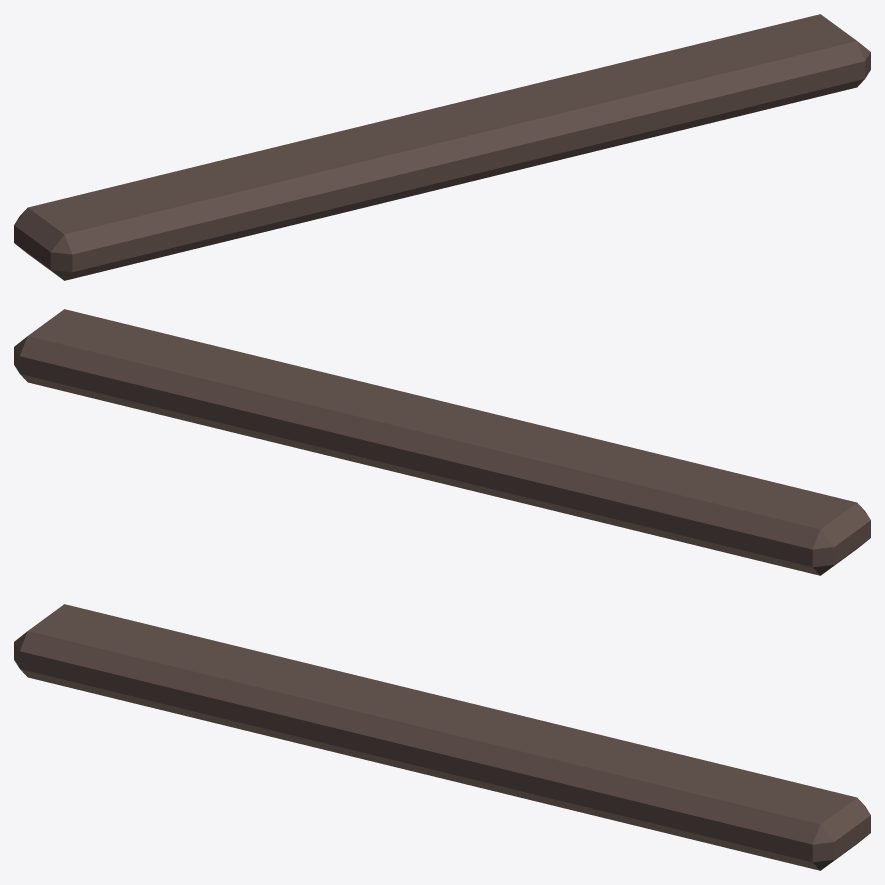
The model's file is bench.ol.glb.
The picture shows the model from 3 angles, top to bottom: view 1: azimuth 30°, elevation 25°; view 2: azimuth 150°, elevation 25°; view 3: azimuth 330°, elevation 25°; orthographic projection.
Visible parts, largest first — view 1: outline; view 2: outline; view 3: outline.
Boxes of the visible parts, bbox=[...] form: outline: bbox=[14, 14, 870, 280]; outline: bbox=[14, 309, 870, 575]; outline: bbox=[14, 604, 870, 870].
Bounding box in the file's own units: 2.45 × 0.1326 × 0.2724.
